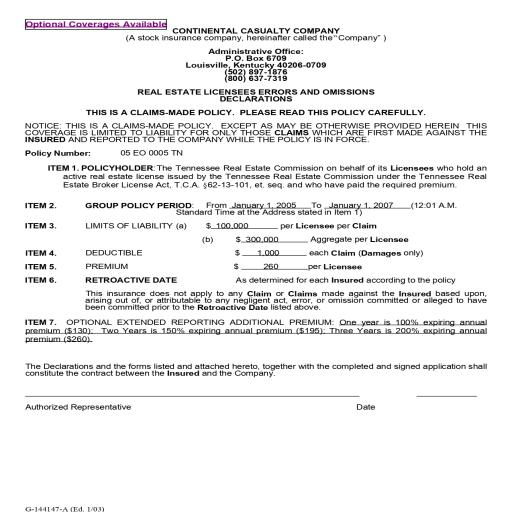date: (348, 397, 390, 417)
free_text: (22, 398, 144, 418)
